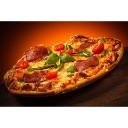pepperonipizza: (3, 34, 122, 94)
